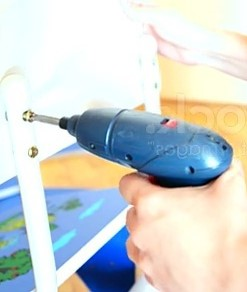driller: (24, 104, 239, 216)
